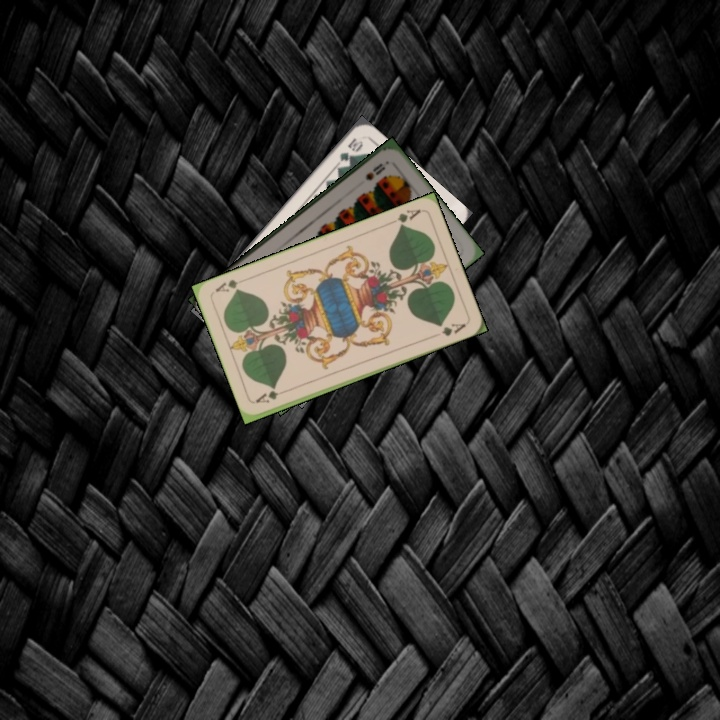G10: (333, 133, 365, 170)
GA: (385, 205, 423, 230), (251, 385, 291, 406)
S8: (361, 159, 388, 183)
